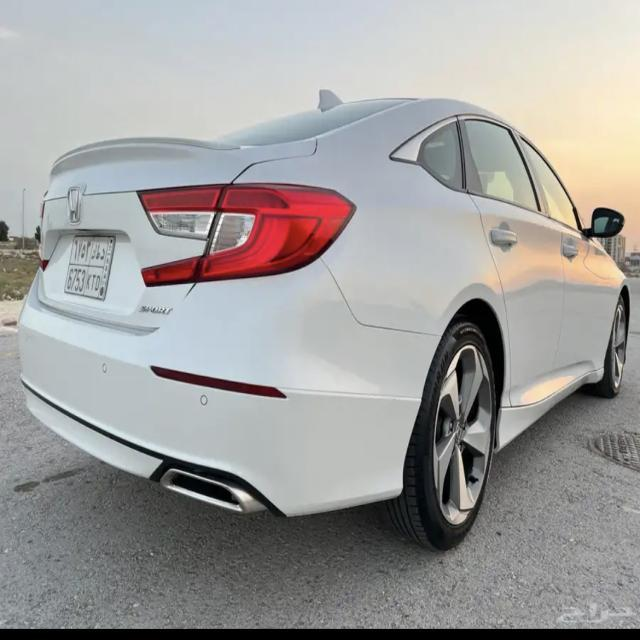license_plate: (63, 230, 115, 296)
